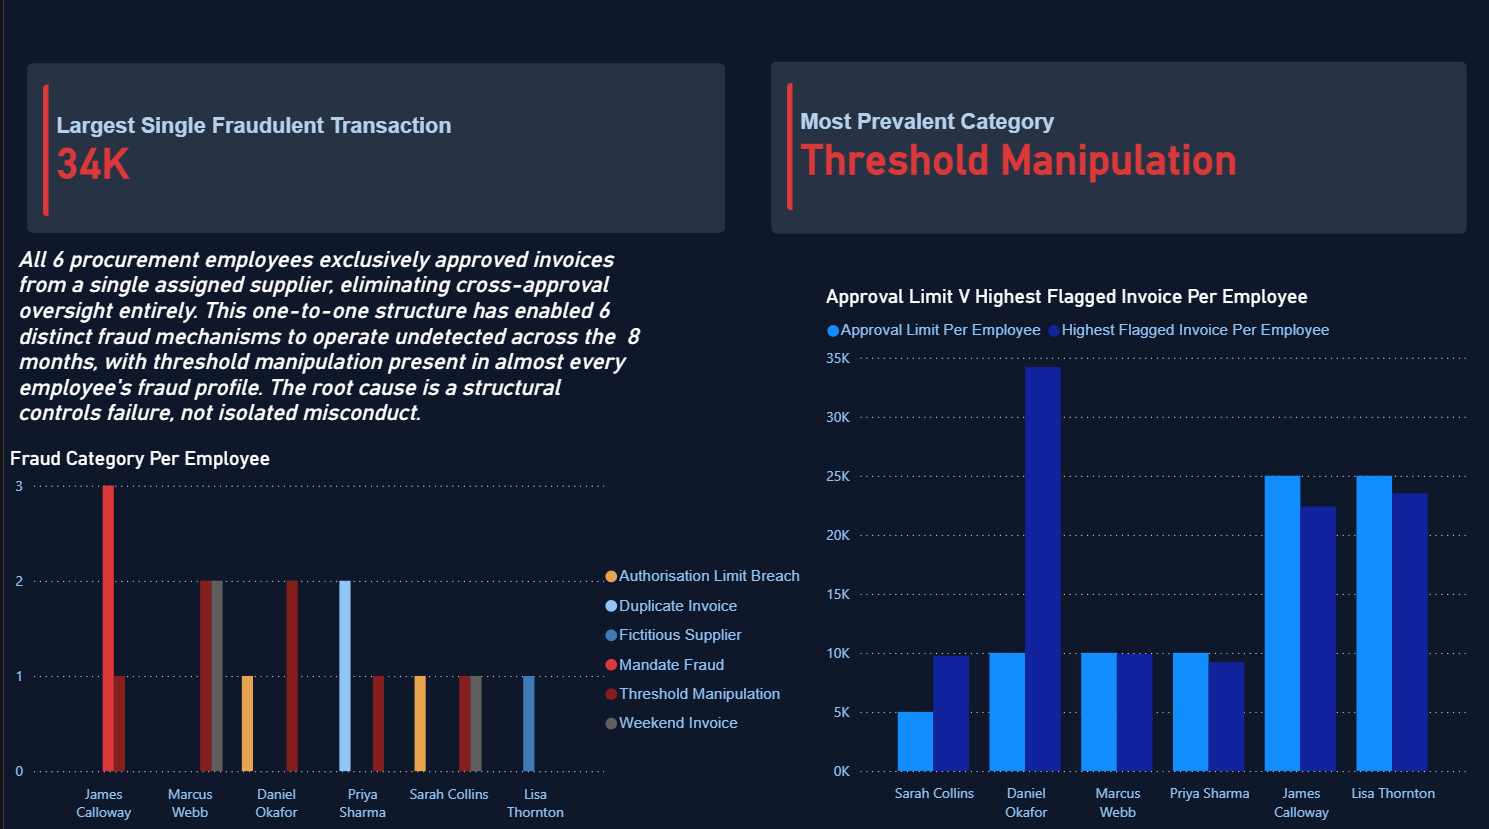

This screenshot's page, from the dashboard's own definition file:
{"tool":"powerbi","page":{"name":"Internal Controls and Actors","canvas":[1280,720],"ordinal":2},"visuals":[{"type":"cardVisual","title":"Total Capital At Risk","fields":{"Data":["employee_limits.total approval amount"]},"box":[0,39.4,640.5,186.2],"z":0},{"type":"cardVisual","title":"Total Capital At Risk","fields":{"Data":["employee_limits.Amount Breached"]},"box":[640.5,37.9,639,187.8],"z":1000},{"type":"clusteredColumnChart","title":"Approval Limit V Highest Flagged Invoice Per Employee","fields":{"Category":["employee_limits.employee_name"],"Y":["Max(employee_limits.approval_limit_gbp)","employee_limits.Highest Flagged Invoice Per Employee"]},"box":[702.6,249.8,560.3,469.4],"z":2000},{"type":"clusteredColumnChart","title":"Fraud Category Per Employee","fields":{"Category":["employee_limits.employee_name"],"Y":["employee_limits.Flagged Invoice Count"],"Series":["invoice_data.fraud_category"]},"box":[0,389.2,702.6,330.1],"z":3000},{"type":"textbox","box":[0,204.4,554.2,184.7],"z":4000}]}

Visuals, with their boxes in screenshot pixels (x1, y1, x2, y2), scaled from the page's 1280x720 canvas onto the 1489x829 screenshot:
"Total Capital At Risk" cardVisual: [left=0, top=45, right=745, bottom=260]
"Total Capital At Risk" cardVisual: [left=745, top=44, right=1488, bottom=260]
"Approval Limit V Highest Flagged Invoice Per Employee" clusteredColumnChart: [left=817, top=288, right=1469, bottom=828]
"Fraud Category Per Employee" clusteredColumnChart: [left=0, top=448, right=817, bottom=828]
textbox: [left=0, top=235, right=645, bottom=448]
